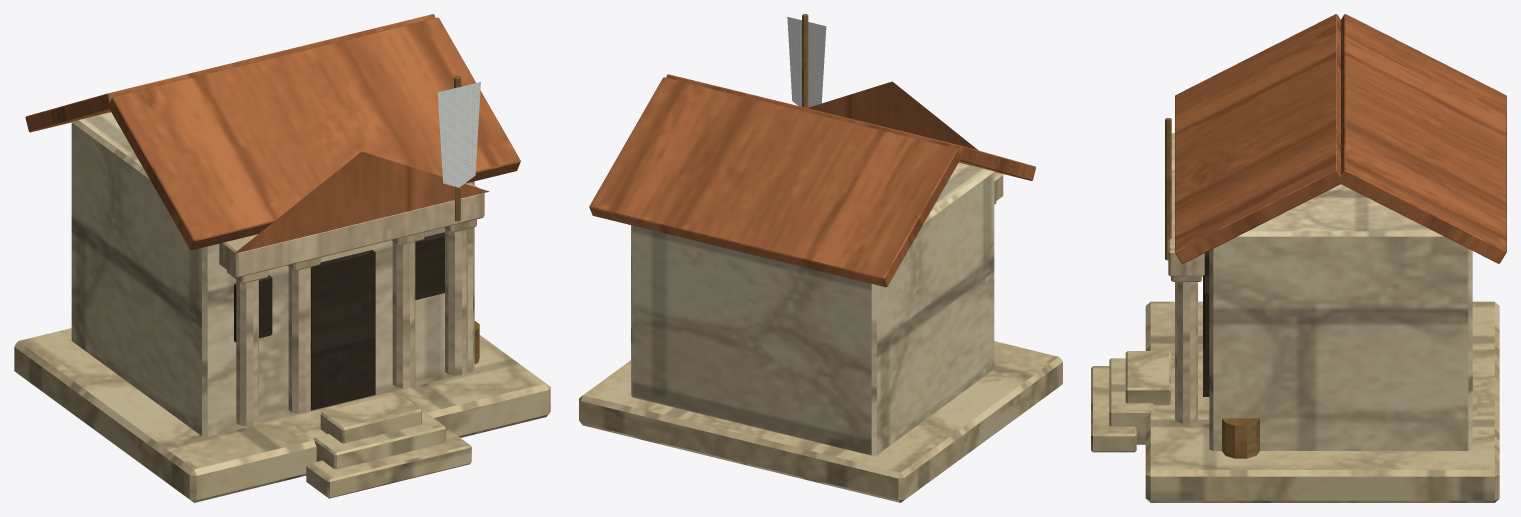
The model's file is edificio-house-e1-CHYAcm4t.glb.
3 views of the same model, side by side, from view 1: azimuth 30°, elevation 25°; view 2: azimuth 150°, elevation 25°; view 3: azimuth 270°, elevation 25° (orthographic). The views are drawn at different scales.
Visible parts, largest first — view 1: casa_e1_detalles, casa_e1_envolvente, casa_e1_team_color; view 2: casa_e1_envolvente, casa_e1_detalles, casa_e1_team_color; view 3: casa_e1_envolvente, casa_e1_detalles.
Boxes of the visible parts, x1=… form: casa_e1_detalles: x1=25, y1=14, x2=520, y2=426; casa_e1_envolvente: x1=14, y1=112, x2=550, y2=502; casa_e1_team_color: x1=437, y1=82, x2=480, y2=187; casa_e1_envolvente: x1=579, y1=163, x2=1062, y2=502; casa_e1_detalles: x1=589, y1=14, x2=1035, y2=287; casa_e1_team_color: x1=787, y1=17, x2=826, y2=107; casa_e1_envolvente: x1=1091, y1=184, x2=1499, y2=502; casa_e1_detalles: x1=1165, y1=14, x2=1506, y2=458.
Bounding box in the file's own units: 45 × 42 × 45.78.
Materials: 3 (3 with a texture image).
